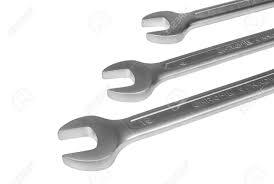wrench: (57, 66, 273, 171), (100, 26, 273, 102), (140, 0, 273, 44)
